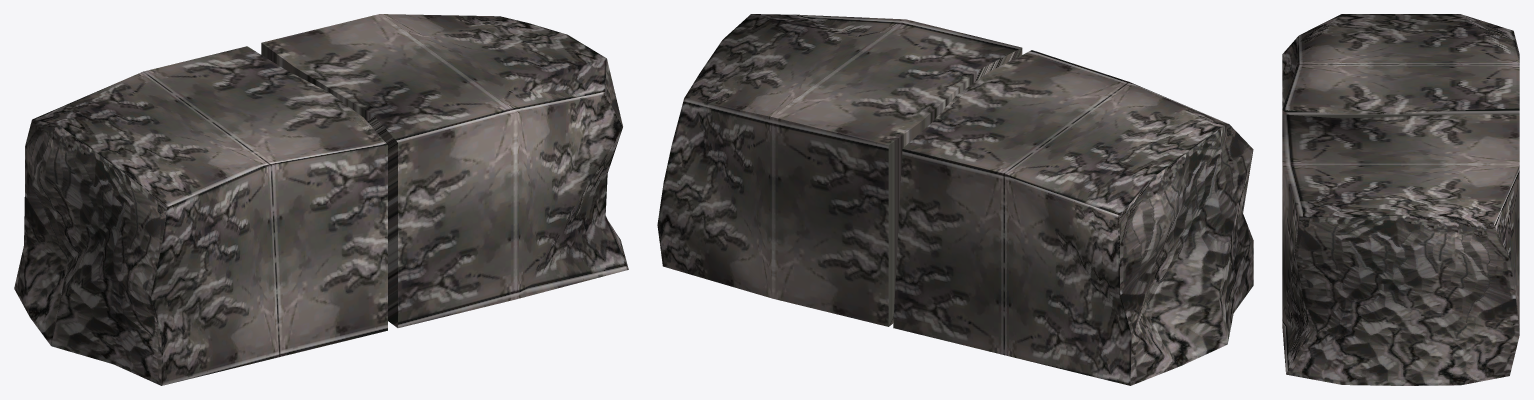
The model's file is INST_SM_DEBRIS_BLOCK_MEDIUMA.fbx.
3 views of the same model, side by side, from view 1: azimuth 30°, elevation 25°; view 2: azimuth 150°, elevation 25°; view 3: azimuth 270°, elevation 25° (orthographic). The views are drawn at different scales.
Visible parts, largest first — view 1: INST_SM_DEBRIS_BLOCK_MEDIUMA; view 2: INST_SM_DEBRIS_BLOCK_MEDIUMA; view 3: INST_SM_DEBRIS_BLOCK_MEDIUMA.
Boxes of the visible parts, box(x1,y1,x2,y2) form: INST_SM_DEBRIS_BLOCK_MEDIUMA: box(14, 14, 628, 385); INST_SM_DEBRIS_BLOCK_MEDIUMA: box(657, 14, 1253, 385); INST_SM_DEBRIS_BLOCK_MEDIUMA: box(1282, 14, 1519, 385).
Size of the model in its own units: 45526 by 15000 by 20000.
2 materials, 2 textured.
